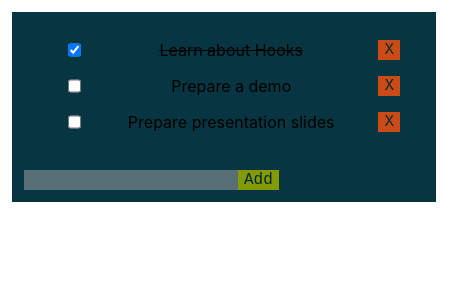
Scenario: TodoList › adds a new item
The width and height of the screenshot is (453, 291).
Click the button "Add" at [258, 180], box [238, 170, 279, 190]
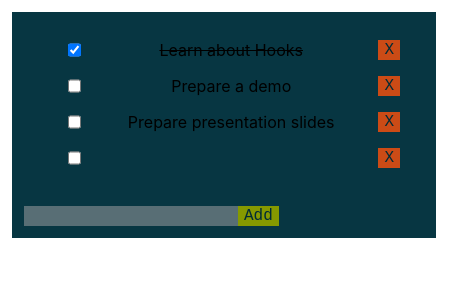
Type "New item" into the field at [131, 216], box [24, 206, 238, 226]
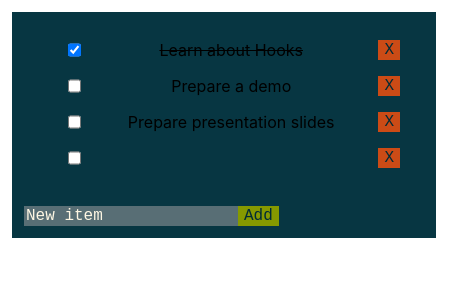
Click the button "Add" at [258, 216], box [238, 206, 279, 226]
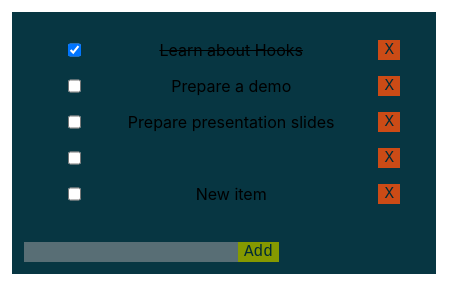
Expected: the text "New item" is shown, [196, 184, 267, 204]
